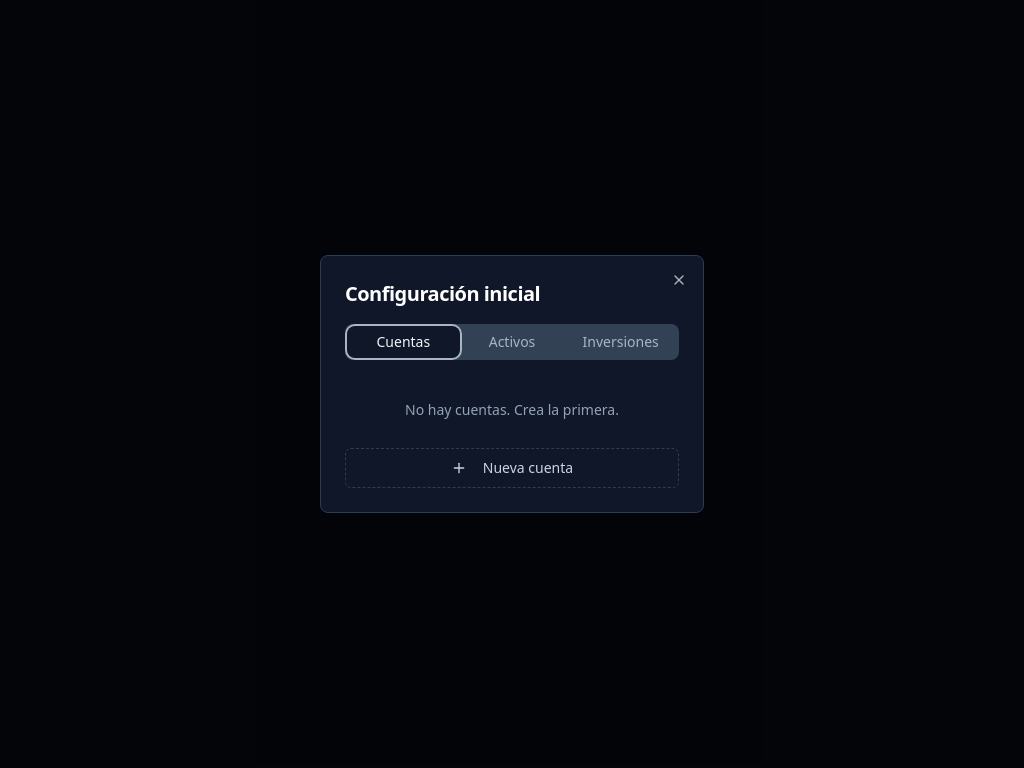
Test: AccountsModal – edit and update › shows Nueva cuenta form when button is clicked
Click the button "Nueva cuenta" at [512, 468], box [345, 448, 679, 488]
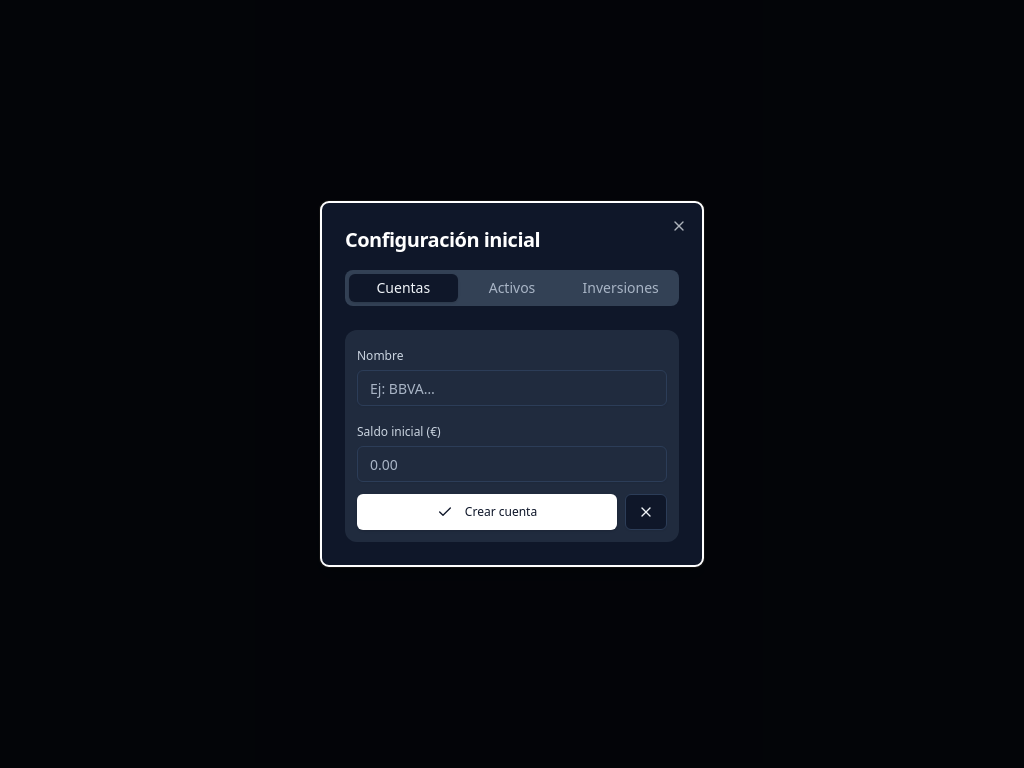
Now the button "Crear cuenta" is shown, box [357, 494, 617, 530]
Now the field labelled "Nombre" is shown, box [357, 370, 667, 406]
Now the number field labelled "Saldo inicial (€)" is shown, box [357, 446, 667, 482]
